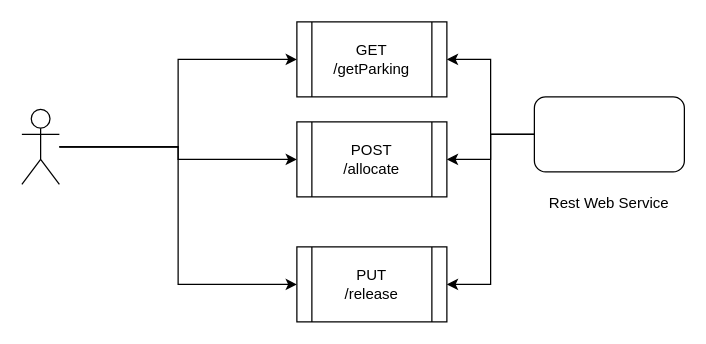
Some shapes in this 706 by 344 pixel diagram are drawn without their labels. The centre of each missing label's shape, as x and y in pixels:
"Actor" goes at point 40,146.
"Car Park Service" goes at point 608,134.
